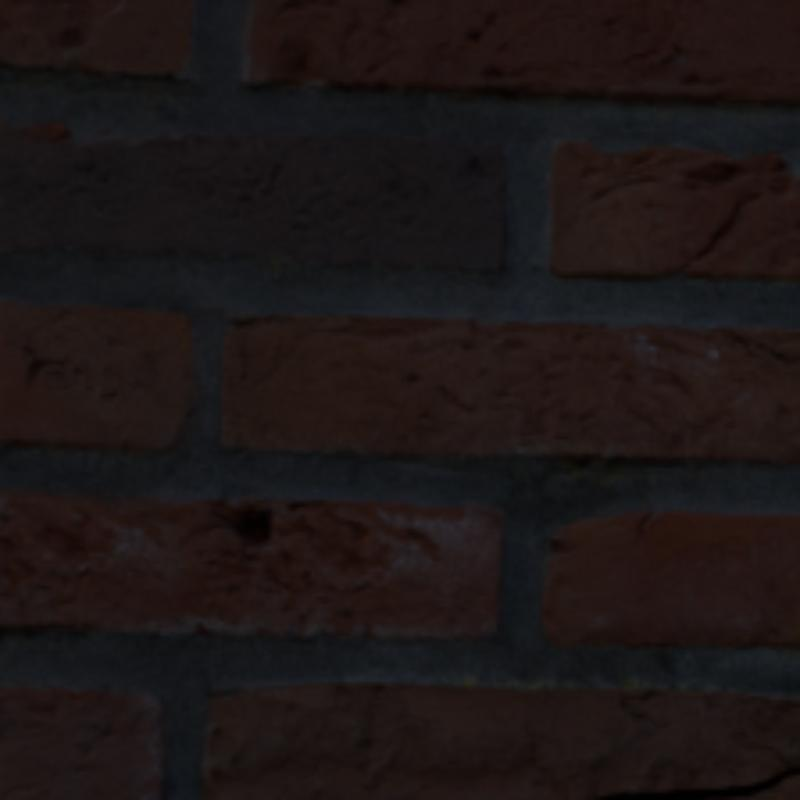pothole: (602, 769, 799, 798)
